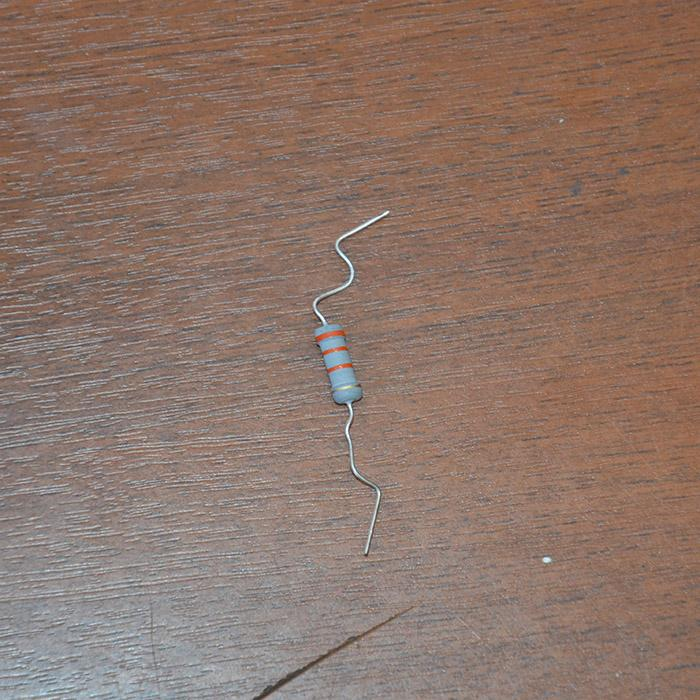resistor: (313, 322, 362, 403)
